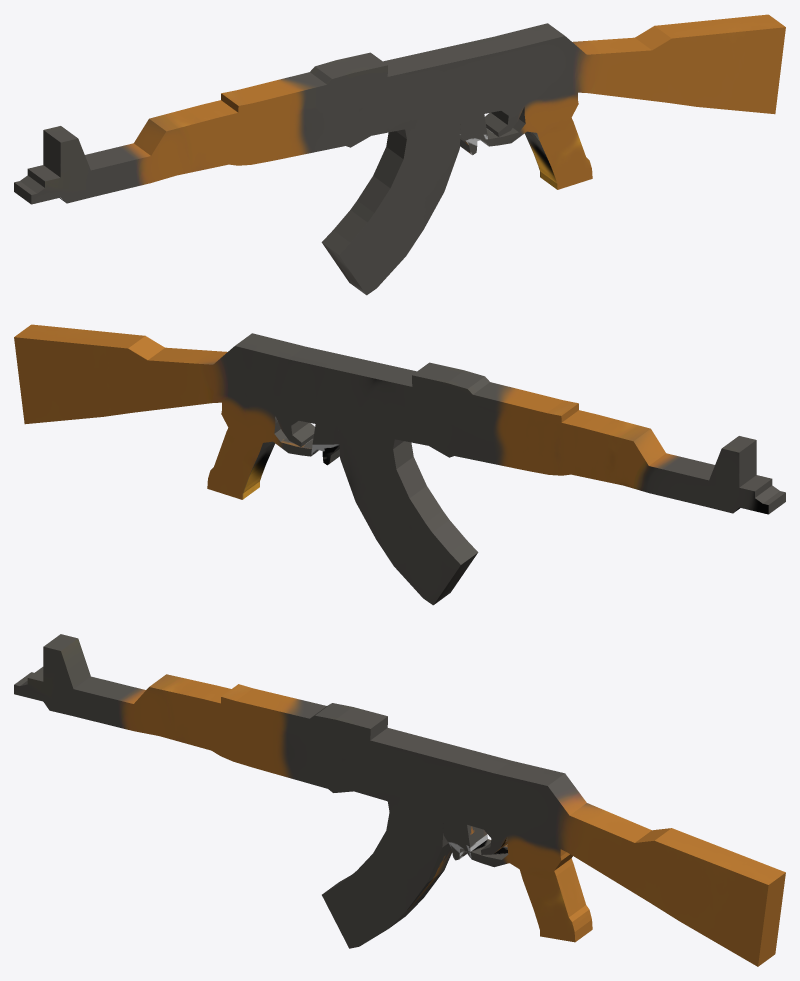
The picture shows the model from 3 angles, top to bottom: view 1: azimuth 30°, elevation 25°; view 2: azimuth 150°, elevation 25°; view 3: azimuth 330°, elevation 25°; orthographic projection.
Parts seen in each view (by area): view 1: Cube; view 2: Cube; view 3: Cube.
Boxes of the visible parts, x1,y1,x2,y2 form: Cube: (14,14,785,295); Cube: (14,324,785,605); Cube: (14,634,785,966).
Bounding box in the file's own units: 997 × 287 × 39.74.
Materials: 1 (1 with a texture image).
